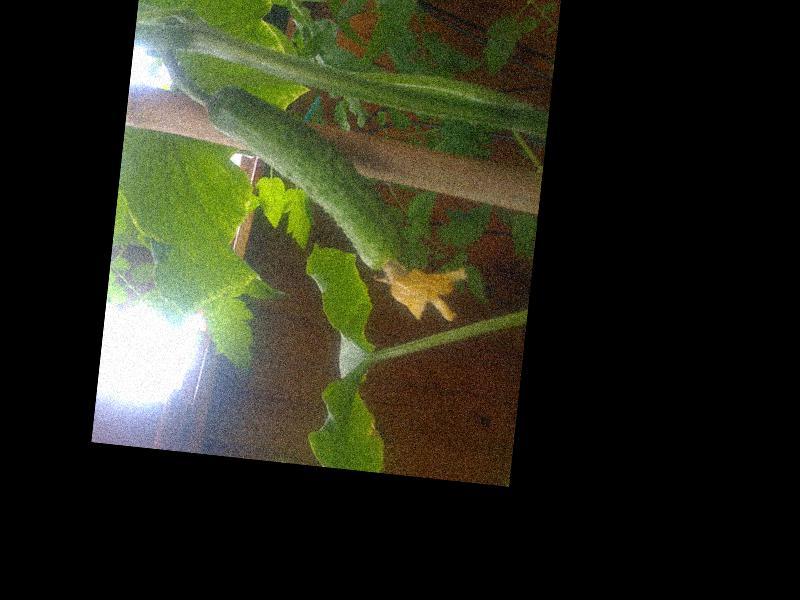Cucumber: (188, 85, 484, 326)
